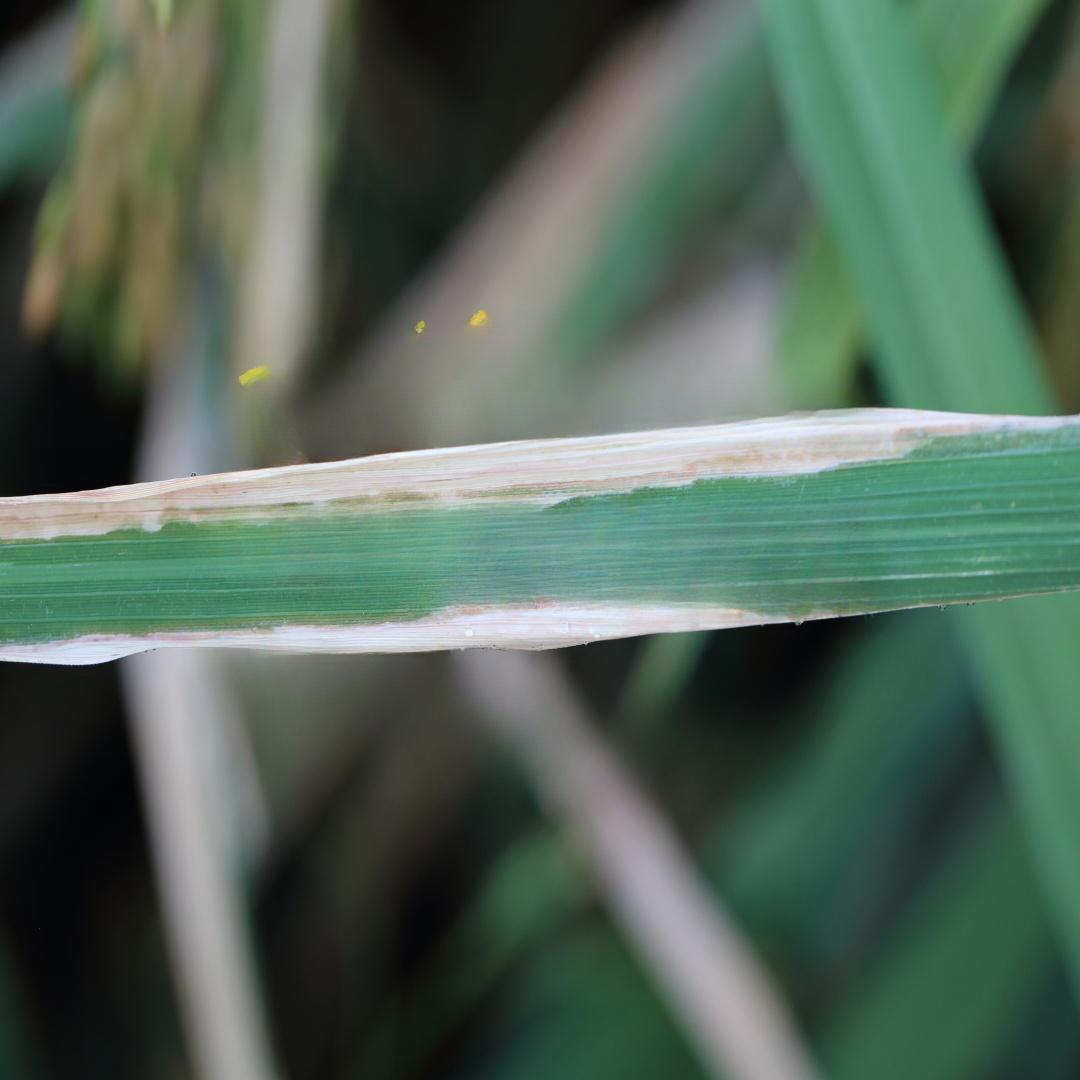BLB: (0, 409, 1079, 540), (0, 599, 775, 665)
